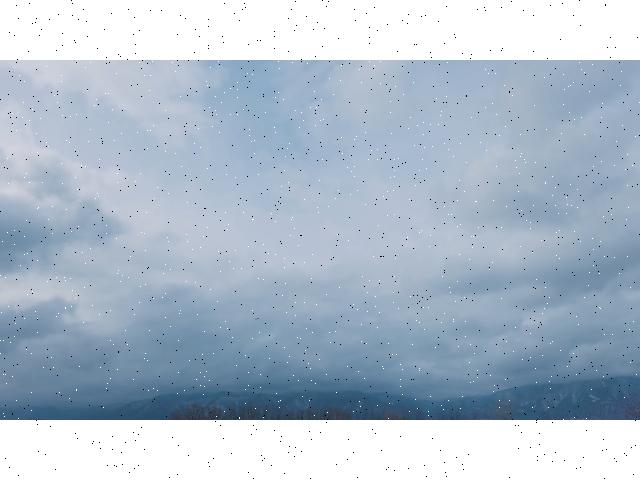Anti-Drone: (252, 311, 264, 325)
